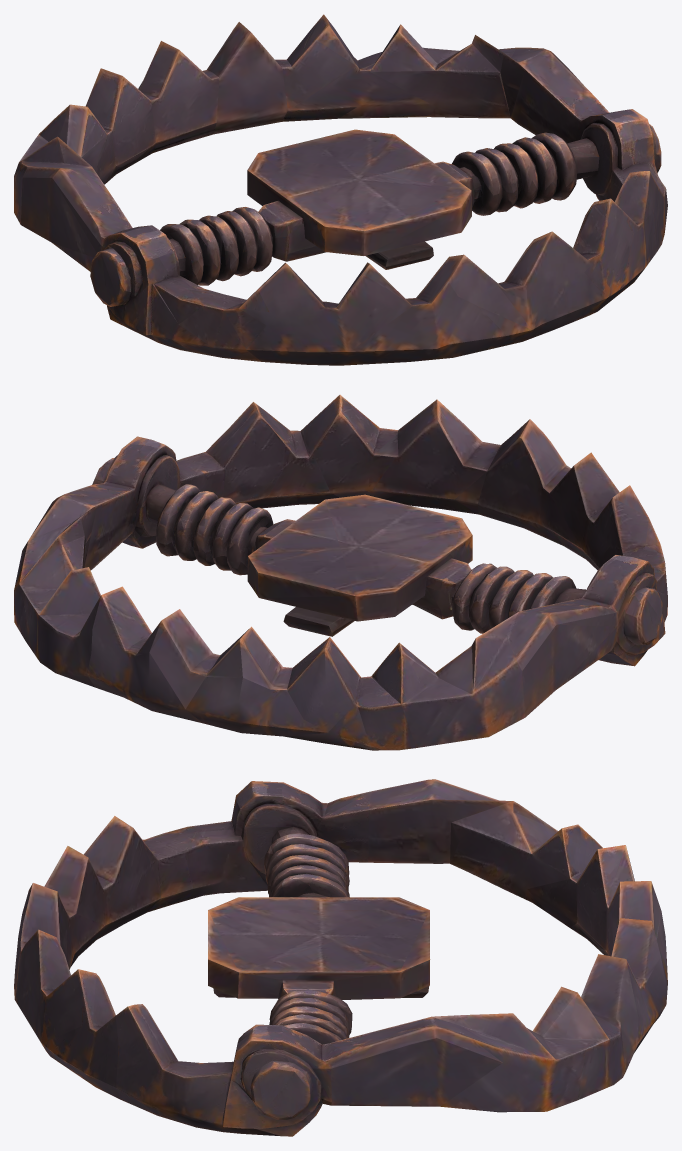
Rendered from trap-2qBrpSd8.glb.
3 views of the same model, one above another, from view 1: azimuth 30°, elevation 25°; view 2: azimuth 150°, elevation 25°; view 3: azimuth 270°, elevation 25° (orthographic). The views are drawn at different scales.
Bounding box in the file's own units: 1.9 × 0.3394 × 1.87.
1 material, 1 textured.
